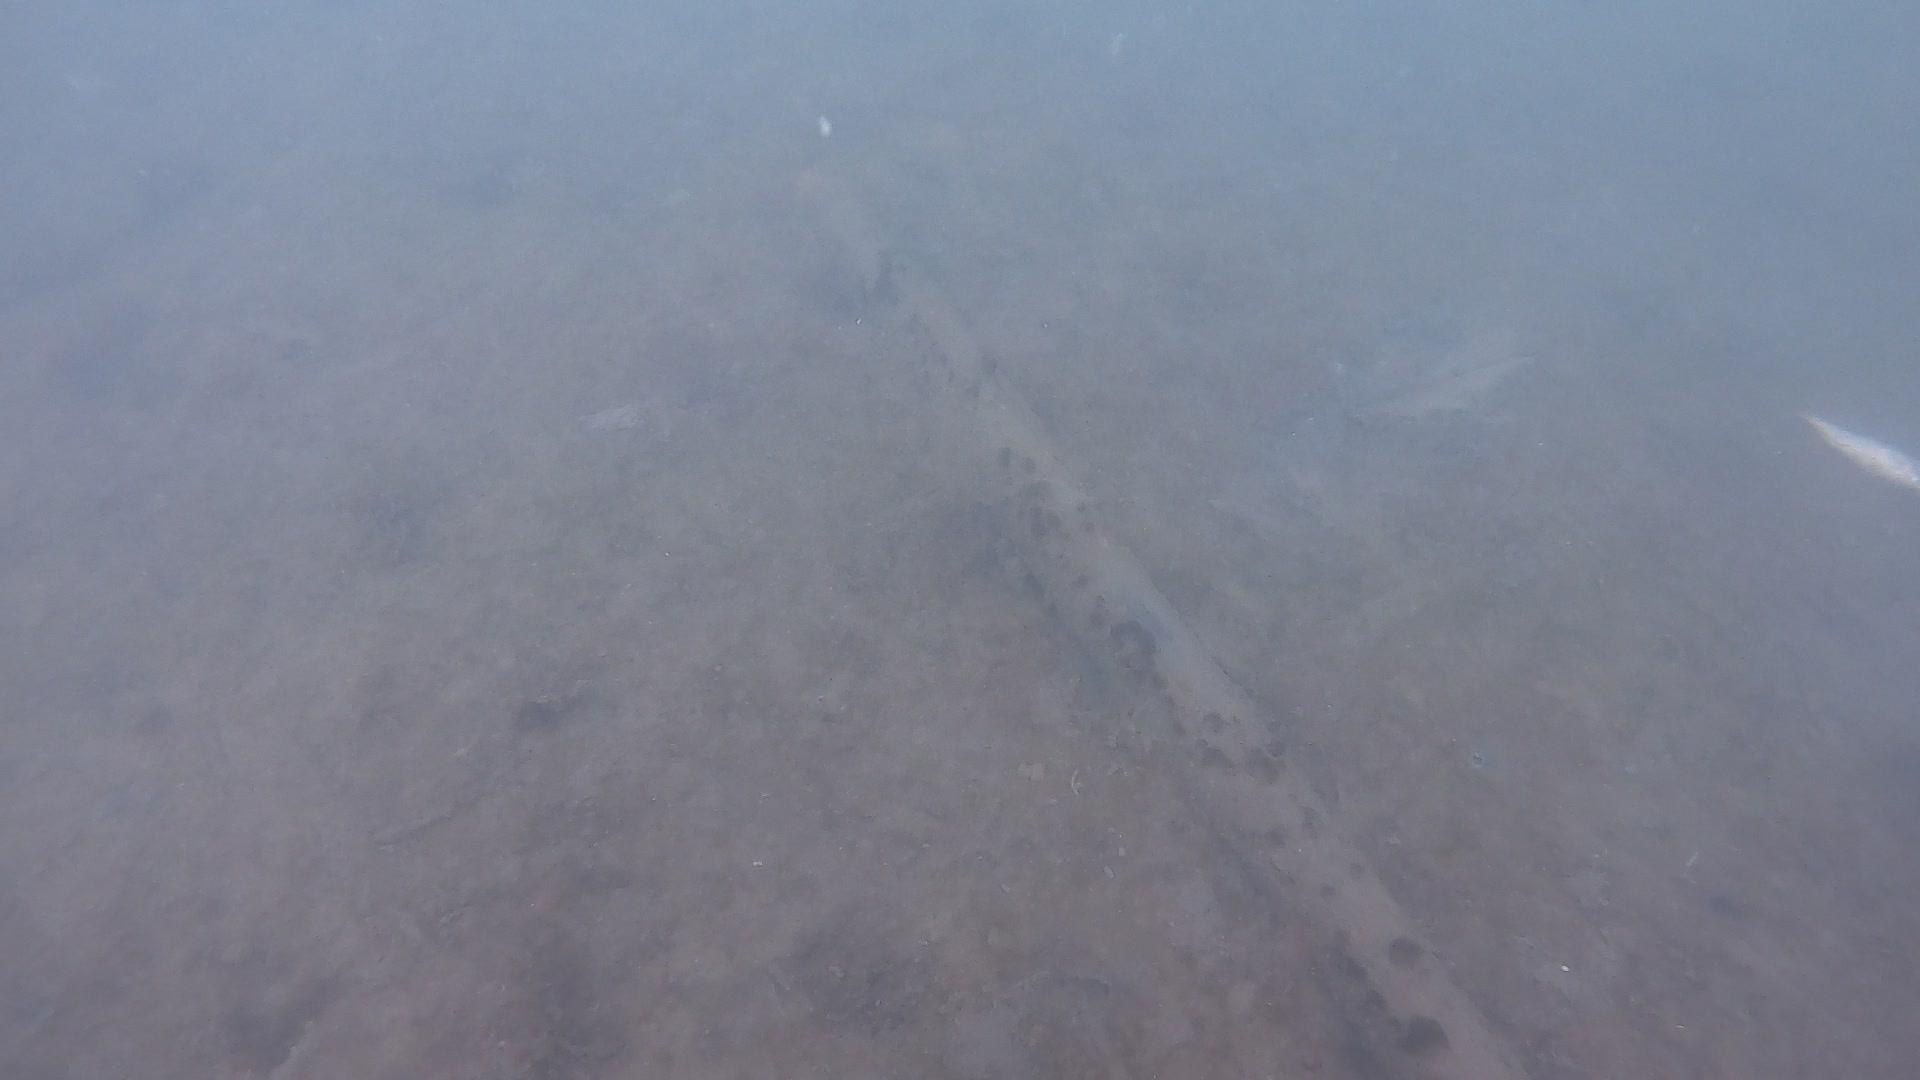wood: (794, 178, 1542, 1080)
